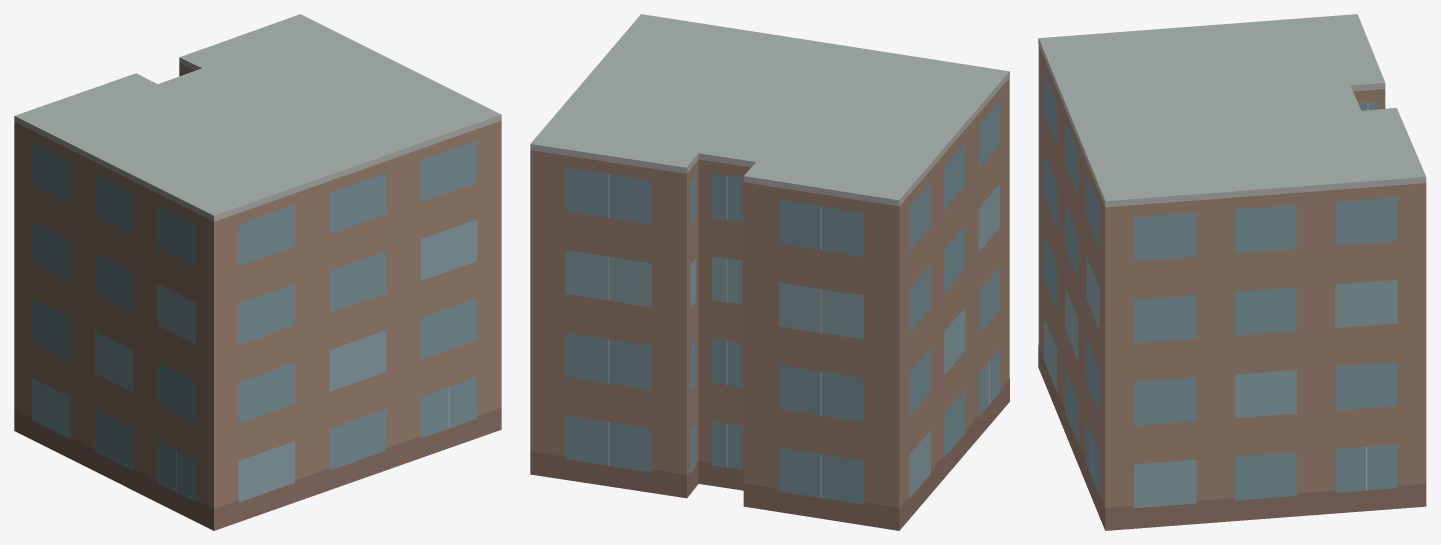
File: survey-upis-32980615.glb
The picture shows the model from 3 angles, left to right: view 1: azimuth 30°, elevation 25°; view 2: azimuth 150°, elevation 25°; view 3: azimuth 270°, elevation 25°; orthographic projection. The views are drawn at different scales.
Parts seen in each view (by area): view 1: survey-upis-32980615.tmp; view 2: survey-upis-32980615.tmp; view 3: survey-upis-32980615.tmp.
Boxes of the visible parts, x1,y1,x2,y2 form: survey-upis-32980615.tmp: (14, 14, 501, 530); survey-upis-32980615.tmp: (530, 14, 1009, 530); survey-upis-32980615.tmp: (1038, 14, 1426, 530).
Size of the model in its own units: 15.97 by 13.1 by 13.97.
